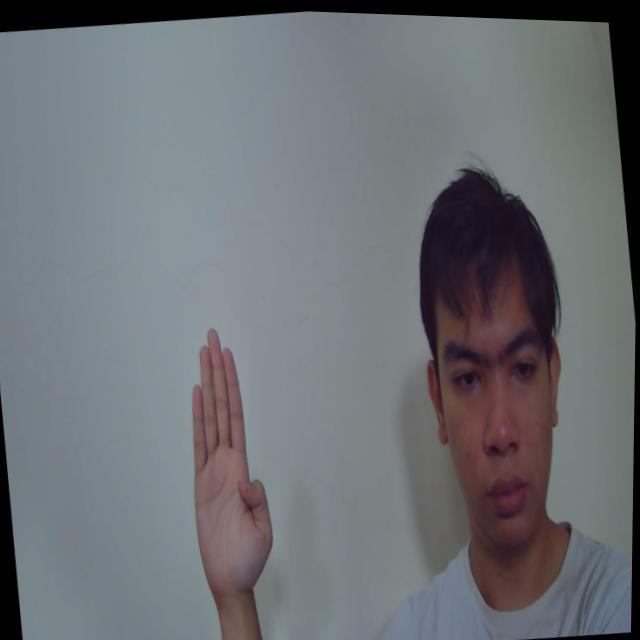B: (176, 320, 284, 598)
